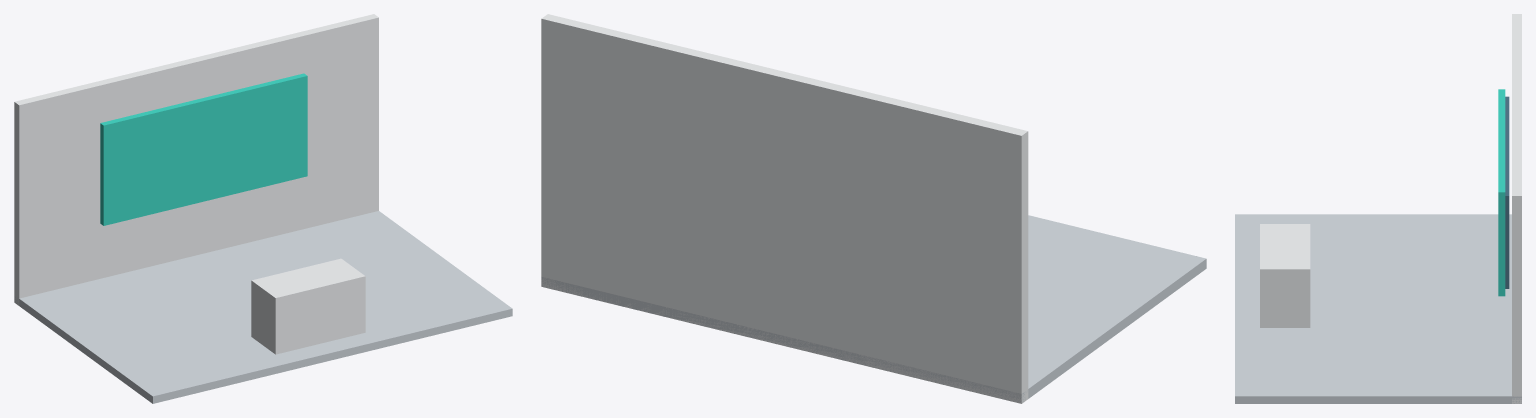
3 renders of one model, left to right at view 1: azimuth 30°, elevation 25°; view 2: azimuth 150°, elevation 25°; view 3: azimuth 270°, elevation 25°, orthographic. The views are drawn at different scales.
Parts seen in each view (by area): view 1: Exhibition Booth Concept; view 2: Exhibition Booth Concept; view 3: Exhibition Booth Concept.
Boxes of the visible parts, x1,y1,x2,y2 form: Exhibition Booth Concept: [14, 14, 512, 403]; Exhibition Booth Concept: [541, 14, 1206, 403]; Exhibition Booth Concept: [1235, 14, 1521, 403].
Size of the model in its own units: 6 by 3.2 by 4.
